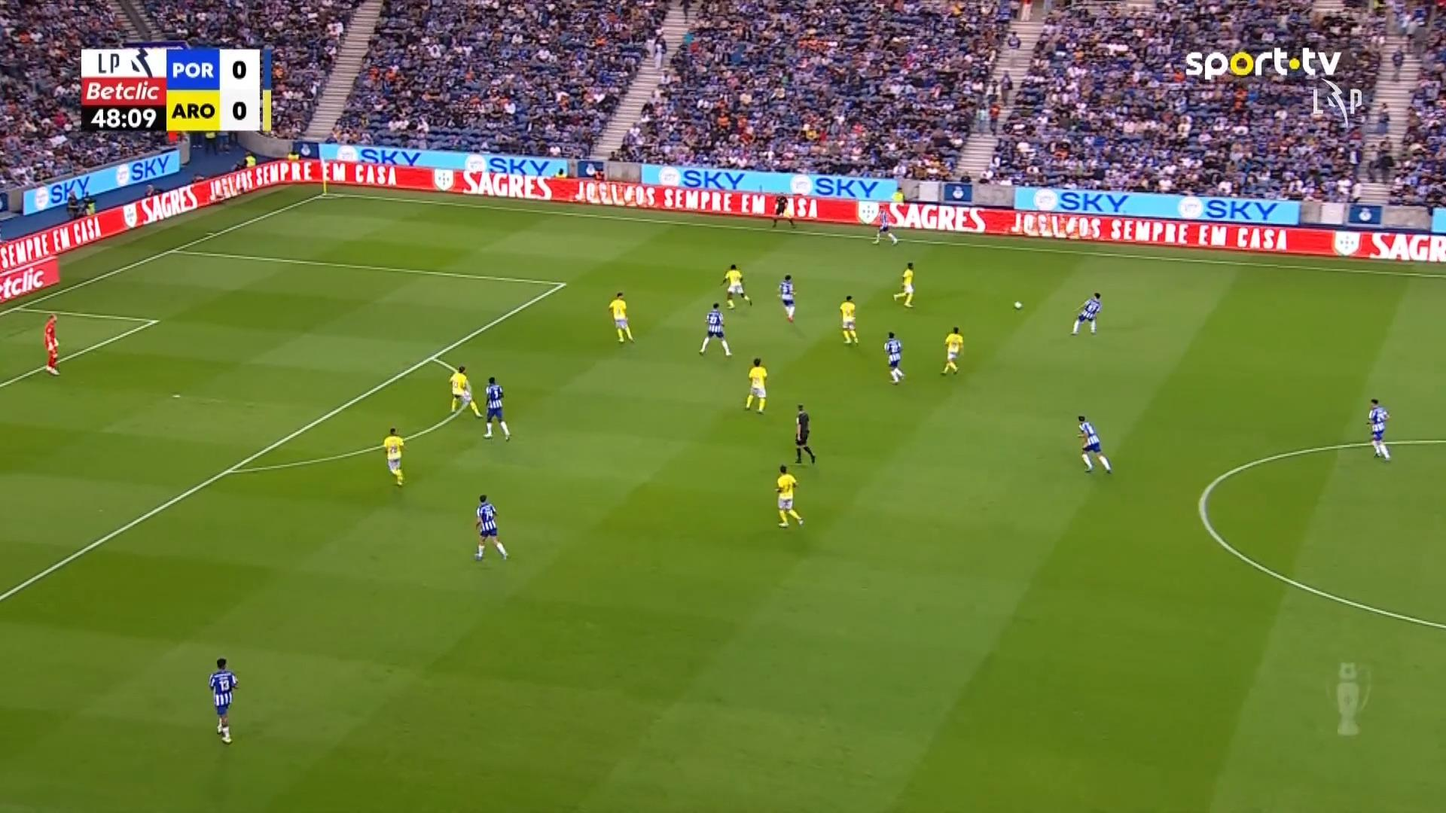ball: (1013, 300, 1022, 309)
goalkeeper: (43, 313, 61, 375)
player: (208, 656, 239, 743), (472, 493, 508, 561), (1076, 414, 1112, 473), (482, 376, 511, 441), (448, 364, 482, 419), (698, 302, 732, 356), (774, 464, 803, 527), (1366, 397, 1390, 459), (720, 263, 752, 309), (382, 427, 406, 487), (1070, 291, 1102, 335), (607, 291, 634, 343), (744, 357, 767, 413), (883, 330, 905, 384), (941, 325, 963, 375), (892, 260, 915, 307), (871, 207, 898, 246), (839, 294, 859, 346), (777, 273, 796, 322)
referee: (793, 403, 815, 464), (770, 193, 795, 229)
